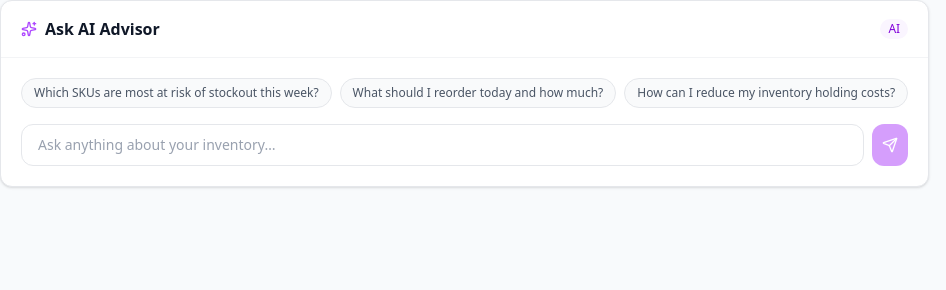
Test case: AskAI › hides suggestion chips after first message
Click the button "Which SKUs are most at risk of stockout this week?". click: (176, 93)
box: left=21, top=78, right=332, bottom=108
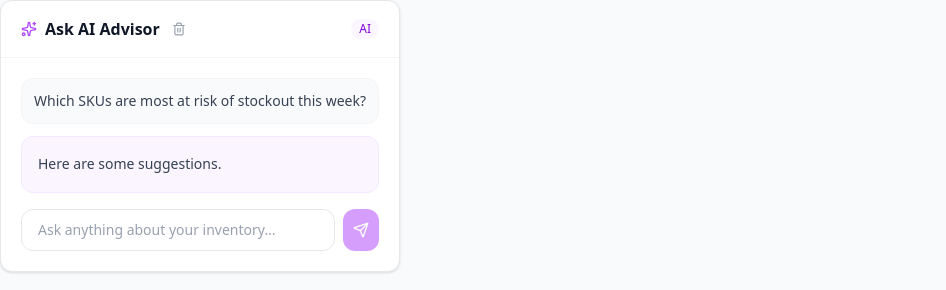
Expected: the text "Here are some suggestions." is shown, left=21, top=136, right=379, bottom=193
Expected: the button "What should I reorder today" is gone
